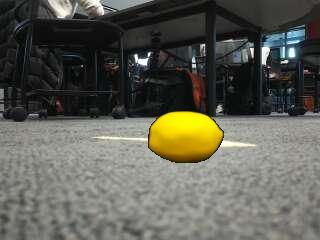lemon: (149, 111, 222, 162)
